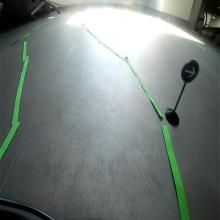right: (180, 59, 200, 84)
